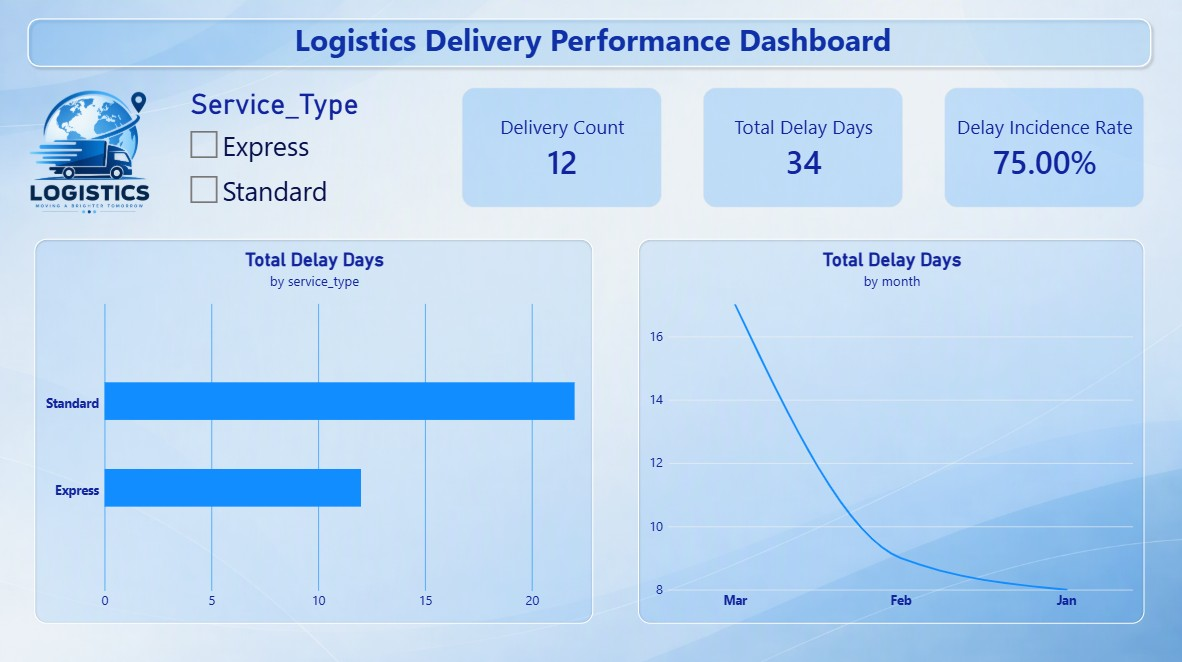

Layout of this report page (visuals, bound fields, positions):
{"tool":"powerbi","page":{"name":"Dashboard","canvas":[1920,1080],"ordinal":0},"visuals":[{"type":"cardVisual","title":"Delivery Count","fields":{"Data":["Measures Table.Delivery Count"]},"box":[750,140,320,192],"z":0},{"type":"cardVisual","fields":{"Data":["Measures Table.Total Delay Days"]},"box":[1136,140,320,192],"z":1000},{"type":"cardVisual","fields":{"Data":["Measures Table.Delay Incidence Rate"]},"box":[1522,140,320,192],"z":2000},{"type":"clusteredBarChart","fields":{"Category":["routes.service_type"],"Y":["Measures Table.Total Delay Days"]},"box":[66,382,894,616],"z":3000},{"type":"lineChart","fields":{"Category":["deliveries.month"],"Y":["Measures Table.Total Delay Days"]},"box":[1032,382,810,616],"z":4000},{"type":"slicer","fields":{"Values":["routes.service_type"]},"box":[308,140,414,212],"z":5000},{"type":"textbox","box":[0,30,1920,66.7],"z":6000},{"type":"shape","box":[46,20,1816,96],"z":7000},{"type":"image","box":[0,116,308,252],"z":7001}]}

Visuals, with their boxes in screenshot pixels (x1, y1, x2, y2), scaled from the page's 1920x1080 canvas onto the 1182x662 screenshot:
"Delivery Count" cardVisual: 462, 86, 659, 204
cardVisual - Measures Table.Total Delay Days: 699, 86, 896, 204
cardVisual - Measures Table.Delay Incidence Rate: 937, 86, 1134, 204
clusteredBarChart - routes.service_type x Measures Table.Total Delay Days: 41, 234, 591, 612
lineChart - deliveries.month x Measures Table.Total Delay Days: 635, 234, 1134, 612
slicer - routes.service_type: 190, 86, 444, 216
textbox: 0, 18, 1181, 59
shape: 28, 12, 1146, 71
image: 0, 71, 190, 226
